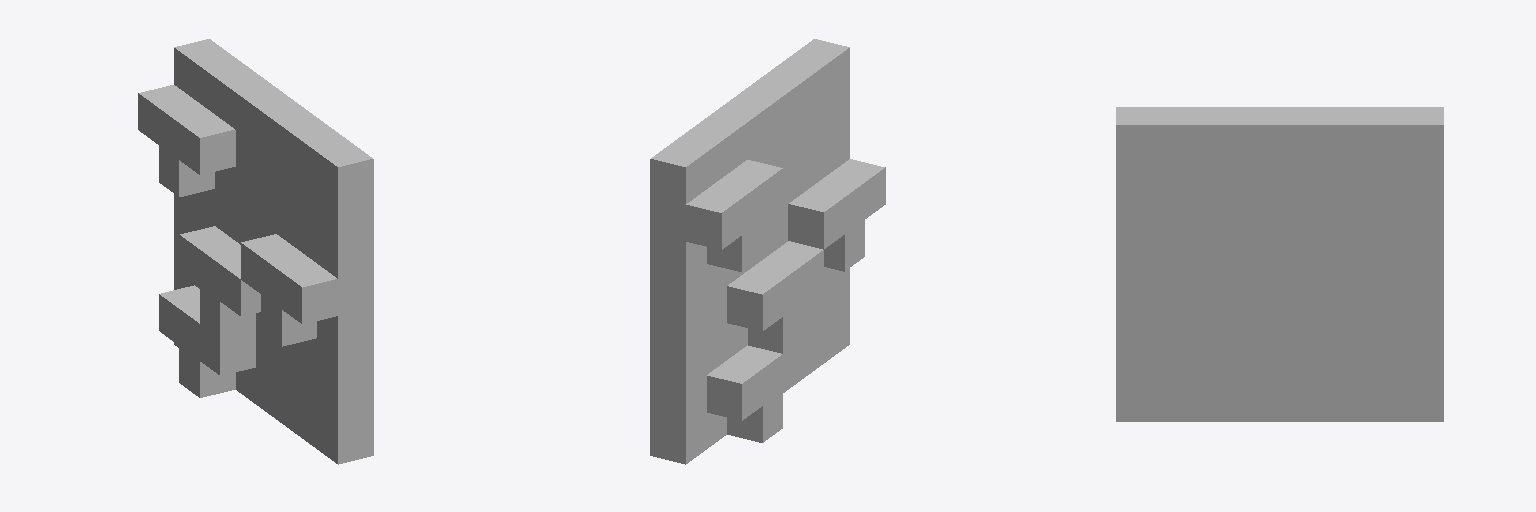
The model's file is DragonflyWing.obj.
3 renders of one model, left to right at view 1: azimuth 30°, elevation 25°; view 2: azimuth 150°, elevation 25°; view 3: azimuth 270°, elevation 25°, orthographic.
Parts seen in each view (by area): view 1: object 1; view 2: object 1; view 3: object 1.
Boxes of the visible parts, <box> form: object 1: <box>138,39,373,464</box>; object 1: <box>650,39,885,464</box>; object 1: <box>1116,107,1443,421</box>.
Bounding box in the file's own units: 0.2 × 0.8 × 0.8.